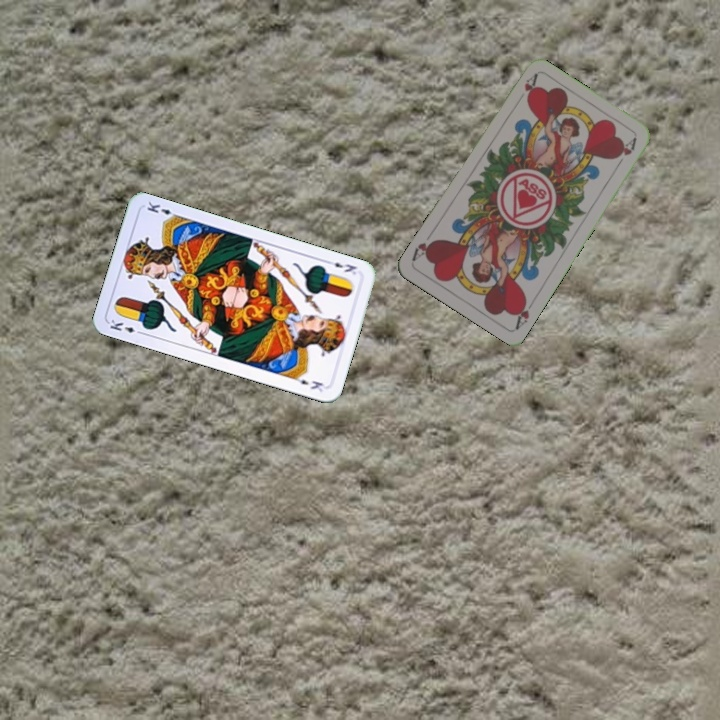EK: (106, 315, 146, 337), (322, 258, 359, 278)
HA: (511, 294, 538, 331), (520, 71, 540, 100)
